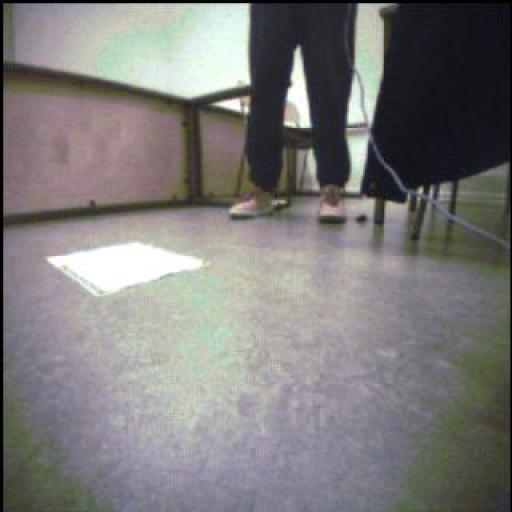Pad: (47, 243, 209, 297)
